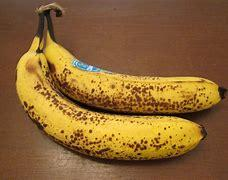banana: (6, 29, 225, 158)
